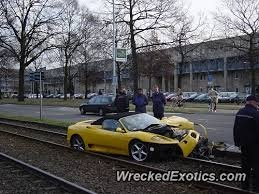Smashed: (124, 115, 207, 162)
